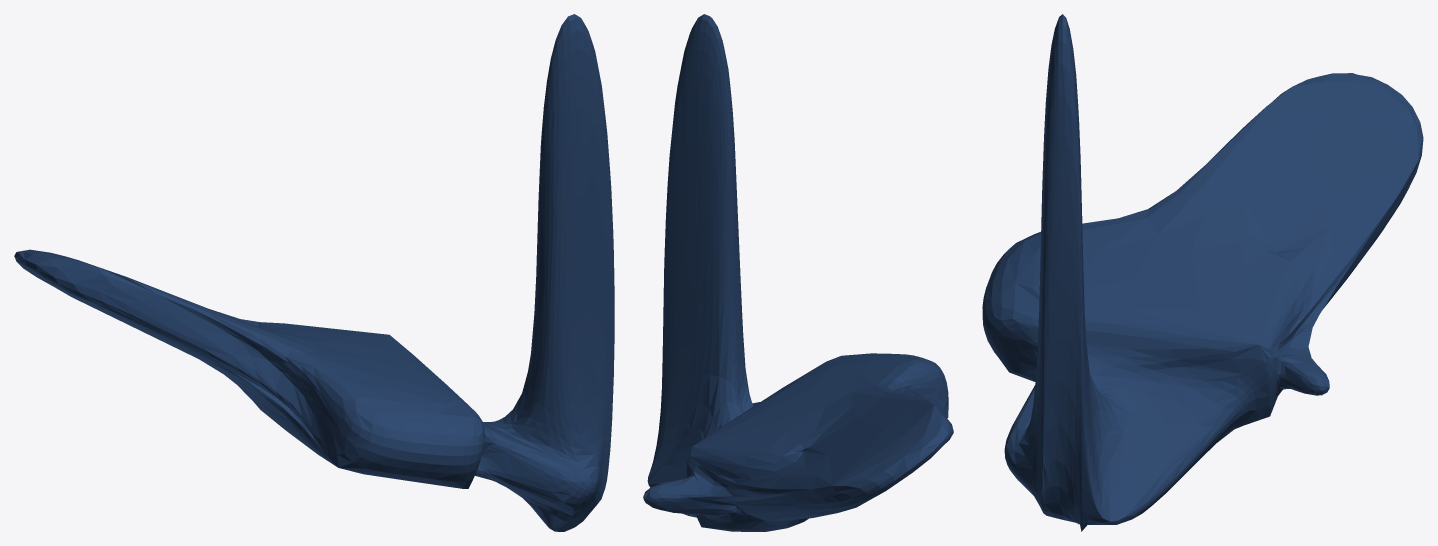
The picture shows the model from 3 angles, left to right: view 1: azimuth 30°, elevation 25°; view 2: azimuth 150°, elevation 25°; view 3: azimuth 270°, elevation 25°; orthographic projection. The views are drawn at different scales.
Parts seen in each view (by area): view 1: 117_Cube.486; view 2: 117_Cube.486; view 3: 117_Cube.486.
Part boxes in pixels (x1=…): 117_Cube.486: x1=14, y1=14, x2=614, y2=531; 117_Cube.486: x1=643, y1=14, x2=953, y2=531; 117_Cube.486: x1=982, y1=14, x2=1423, y2=531.
Bounding box in the file's own units: 9.52 × 10.52 × 8.29.
